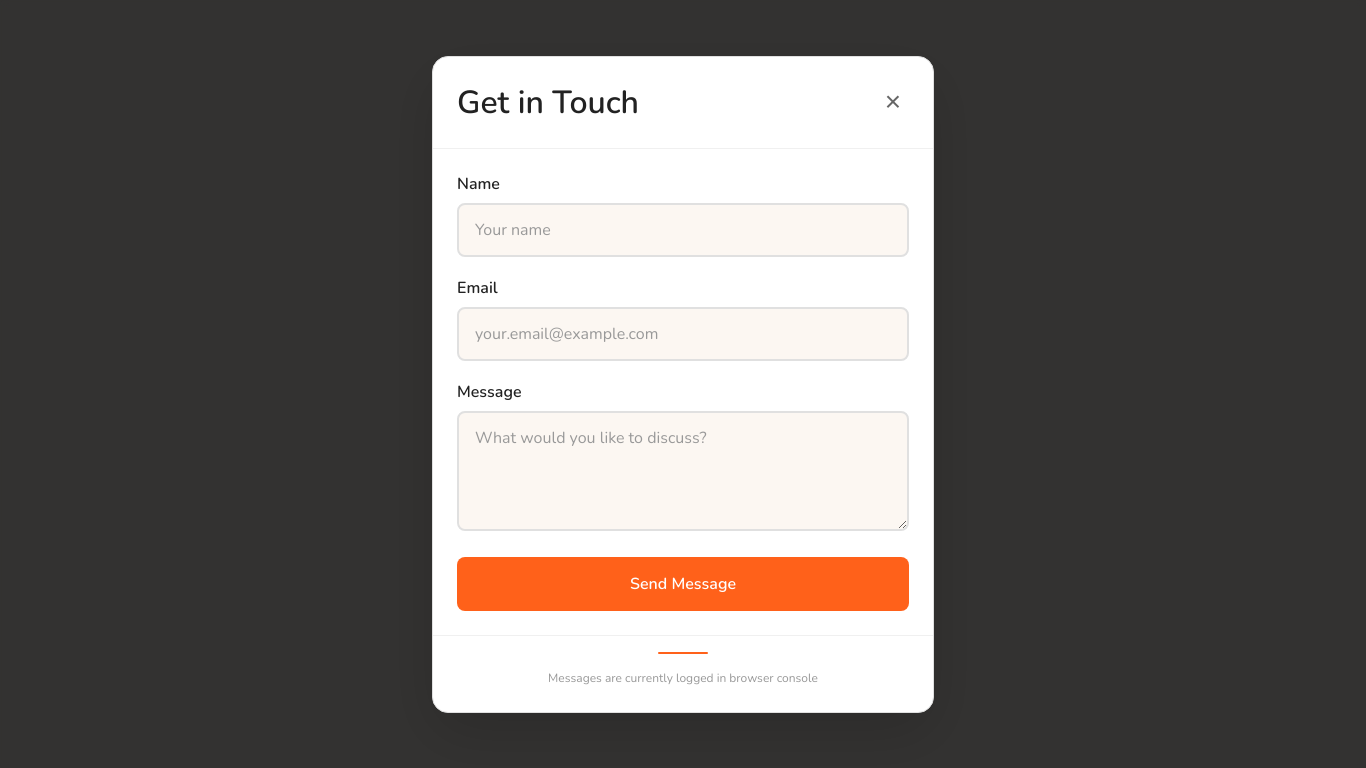
Test case: ContactModal Component › should show success message after valid submission
This screenshot has width=1366, height=768.
Type "John Doe" into the field labelled "Name" at (683, 230), box [457,202,909,256]
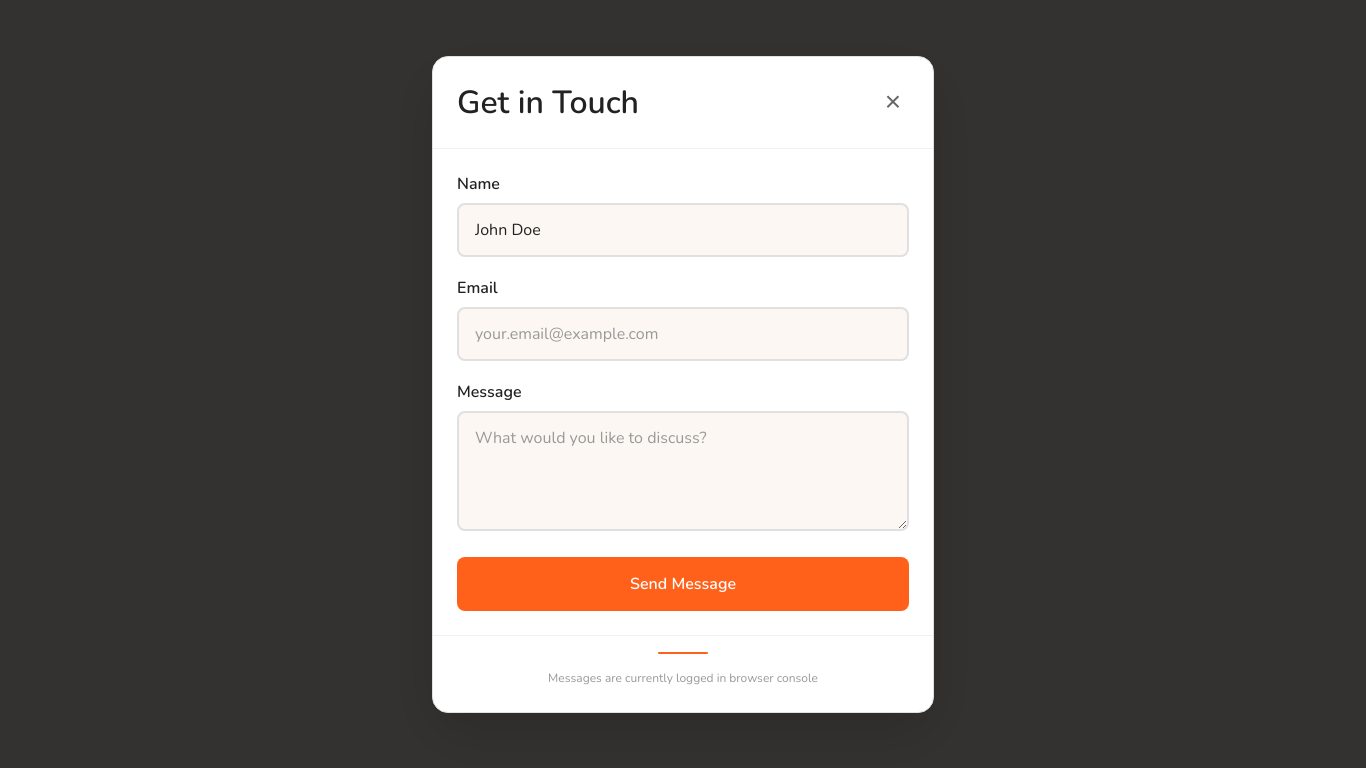
Type "john@example.com" into the field labelled "Email" at (683, 334), box [457,306,909,360]
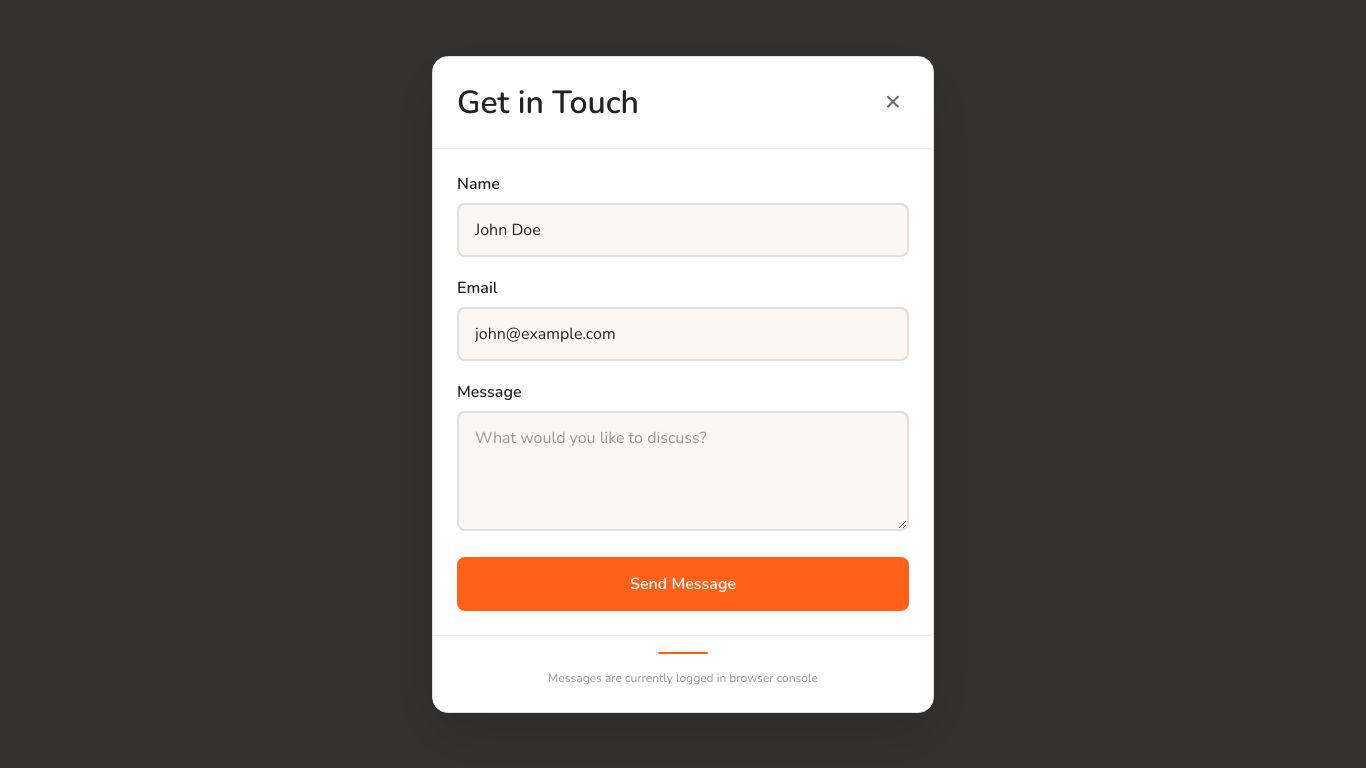
Type "Test message" into the text box labelled "Message" at (683, 470), box [457,410,909,530]
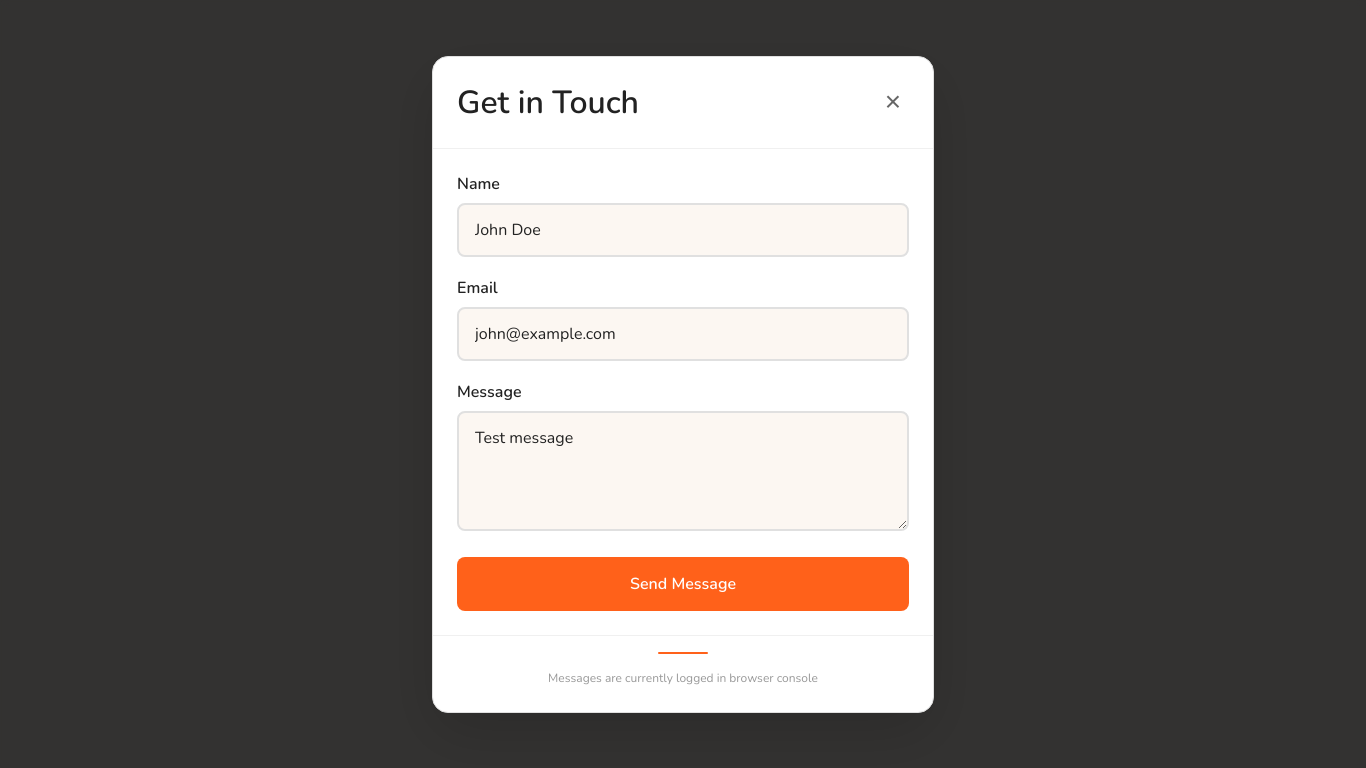
Click the button "Send Message" at (683, 584), box [457,556,909,610]
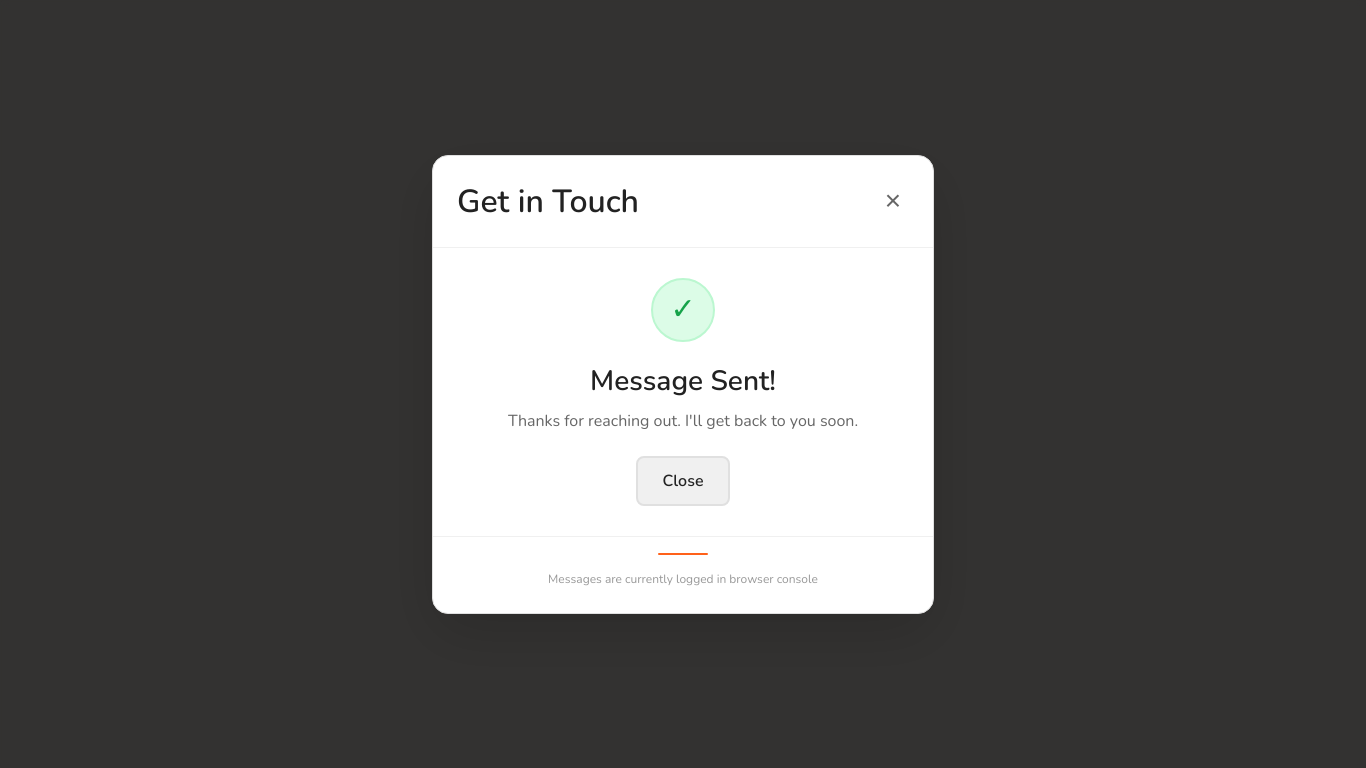
Check: the heading "Message Sent!" is shown, box [590,362,776,400]
